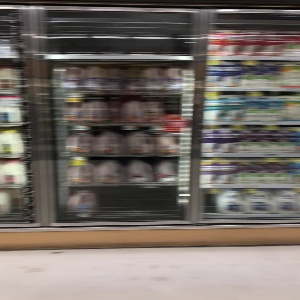void: (100, 186, 186, 222)
